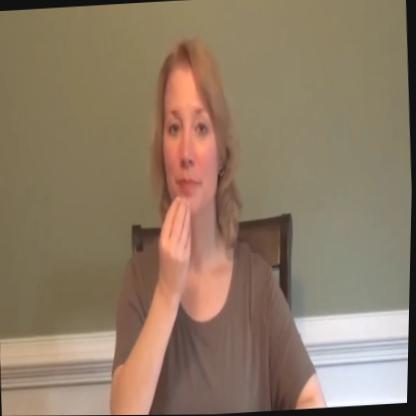Food: (89, 28, 338, 415)
